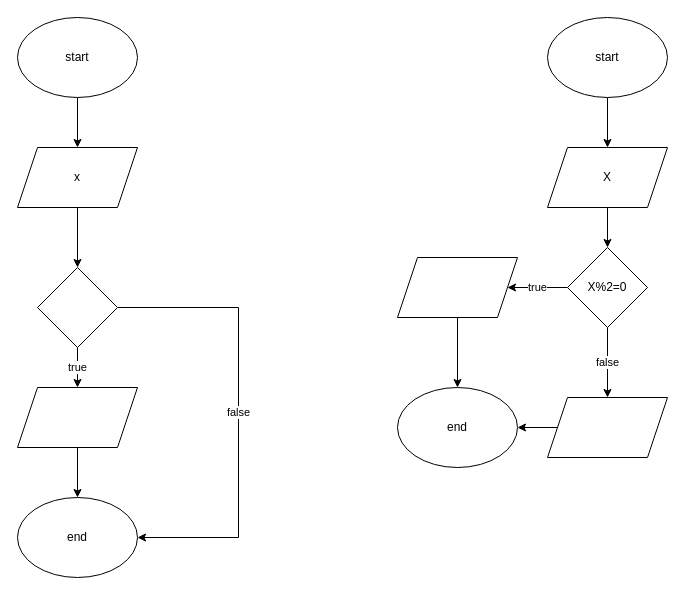
Some shapes in this 685 by 595 pixel diagram are drawn without their labels. Each missing label, with the centre of its shape:
"Da" belongs at (77,417).
"even" belongs at (457,287).
"oda" belongs at (607,427).
"x/2" belongs at (77,307).
